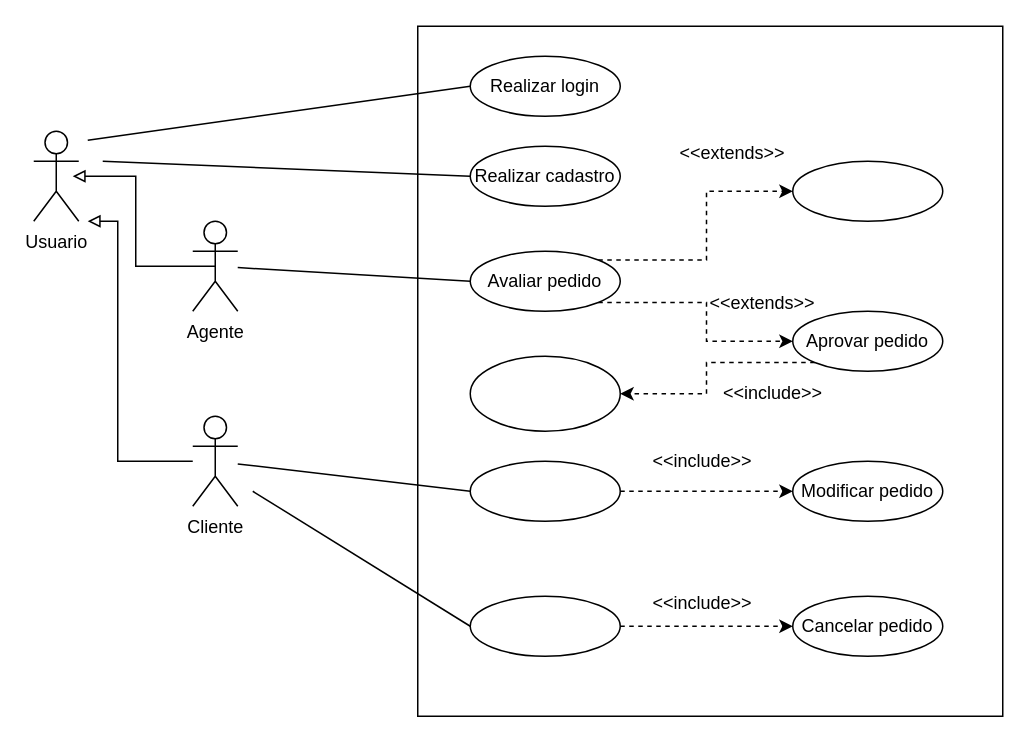
Image size: 1029x743. Some labels were removed from this diagram. The box of each missing label's shape, as (x1, y1, x2, y2) in pixels:
Consultar pedido: (469, 460, 620, 521)
Executar contrato: (469, 355, 620, 431)
Introduzir pedido: (469, 595, 620, 656)
Reprovar pedido: (791, 160, 943, 221)
